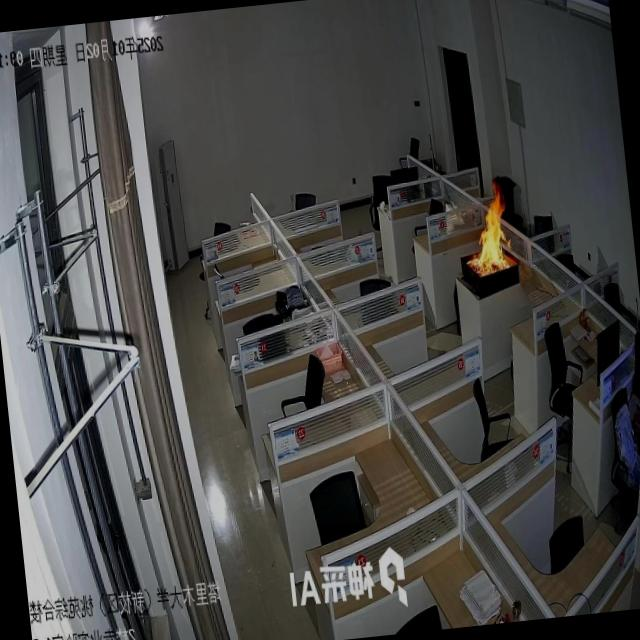fire: (452, 172, 525, 308)
